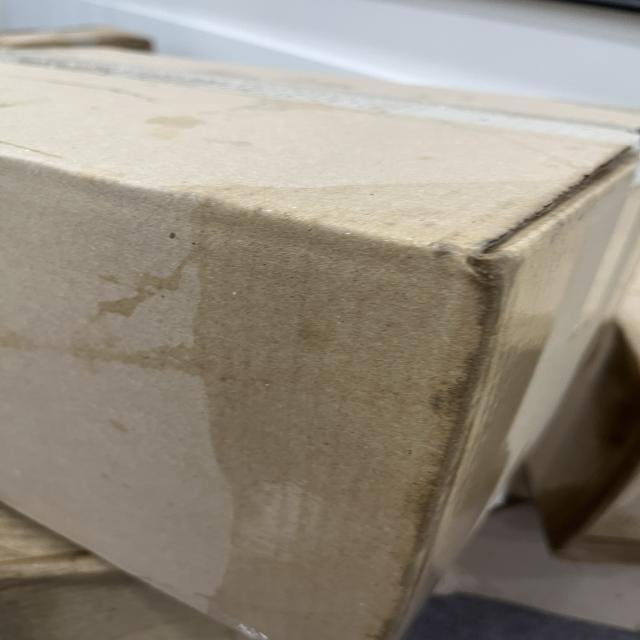wet: (191, 174, 527, 640)
